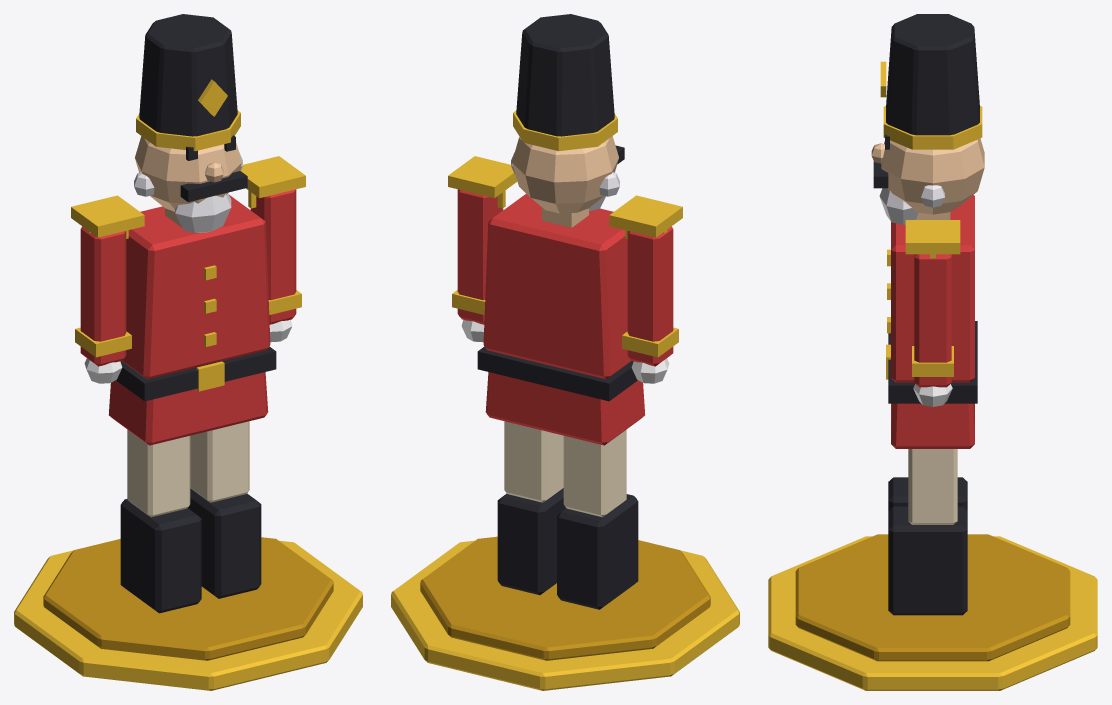
File: nutcracker-1x1.glb
The picture shows the model from 3 angles, left to right: view 1: azimuth 30°, elevation 25°; view 2: azimuth 150°, elevation 25°; view 3: azimuth 270°, elevation 25°; orthographic projection.
Visible parts, largest first — view 1: nutcracker-1x1; view 2: nutcracker-1x1; view 3: nutcracker-1x1.
Part boxes in pixels (x1,y1,x2,y2): nutcracker-1x1: [14, 14, 362, 690]; nutcracker-1x1: [391, 14, 739, 690]; nutcracker-1x1: [768, 14, 1097, 690].
Bounding box in the file's own units: 0.9 × 1.79 × 0.9.
1 material, 1 textured.
